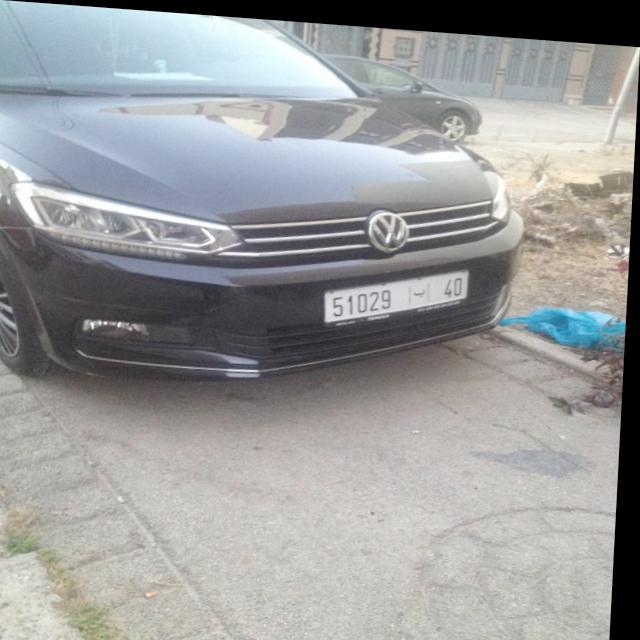License-Plate: (327, 263, 472, 317)
